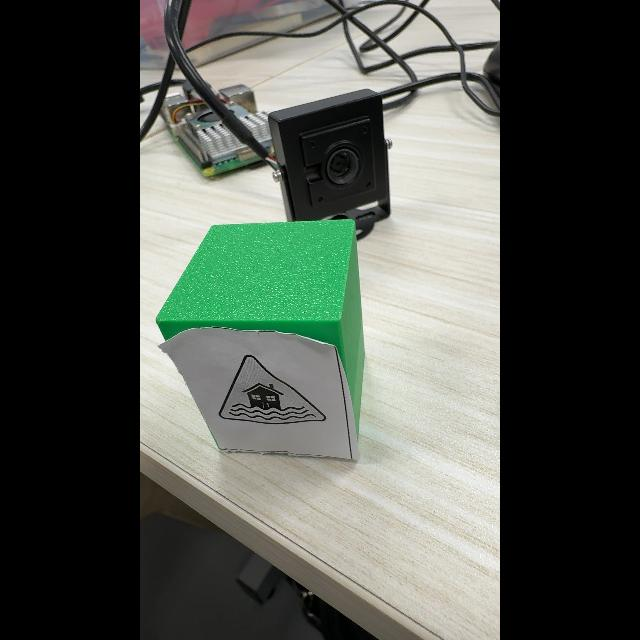Tsunami: (218, 354, 325, 424)
